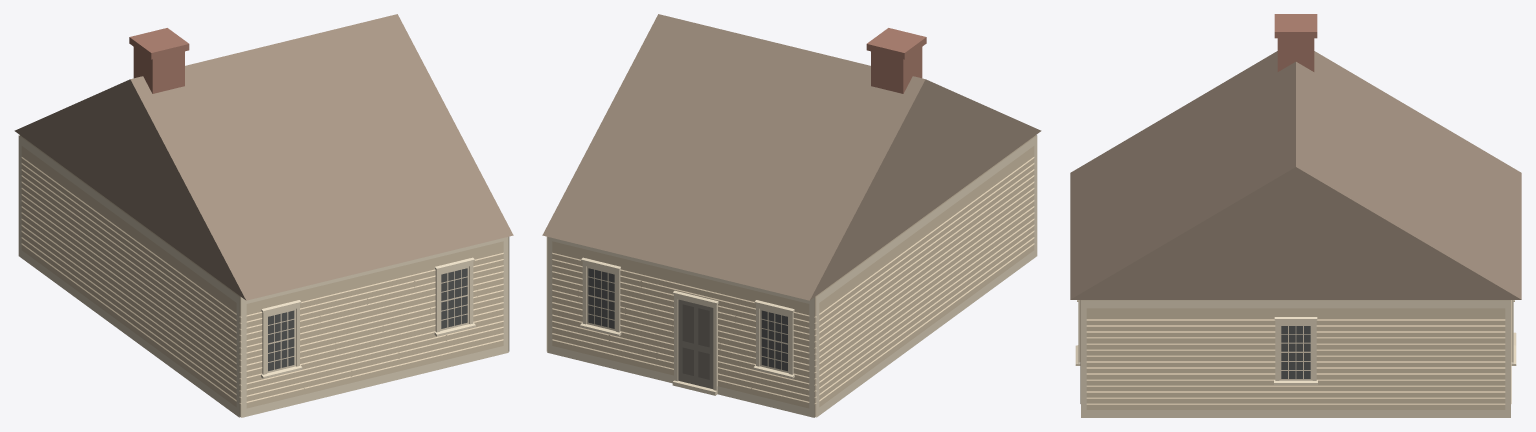
Rendered from recon_1835_blk_school_section_tier_118_d5_02__inferred_1835.glb.
The picture shows the model from 3 angles, left to right: view 1: azimuth 30°, elevation 25°; view 2: azimuth 150°, elevation 25°; view 3: azimuth 270°, elevation 25°; orthographic projection. The views are drawn at different scales.
Parts seen in each view (by area): view 1: recon_1835_blk_school_section_tier_118_d5_02__inferred_1835; view 2: recon_1835_blk_school_section_tier_118_d5_02__inferred_1835; view 3: recon_1835_blk_school_section_tier_118_d5_02__inferred_1835.
Part boxes in pixels (bbox=[...]): recon_1835_blk_school_section_tier_118_d5_02__inferred_1835: bbox=[14, 14, 513, 417]; recon_1835_blk_school_section_tier_118_d5_02__inferred_1835: bbox=[542, 14, 1041, 417]; recon_1835_blk_school_section_tier_118_d5_02__inferred_1835: bbox=[1070, 14, 1521, 417].
Size of the model in its own units: 7.05 by 7.12 by 10.36.
